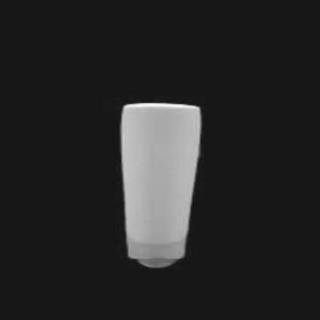objects: (121, 95, 199, 267)
